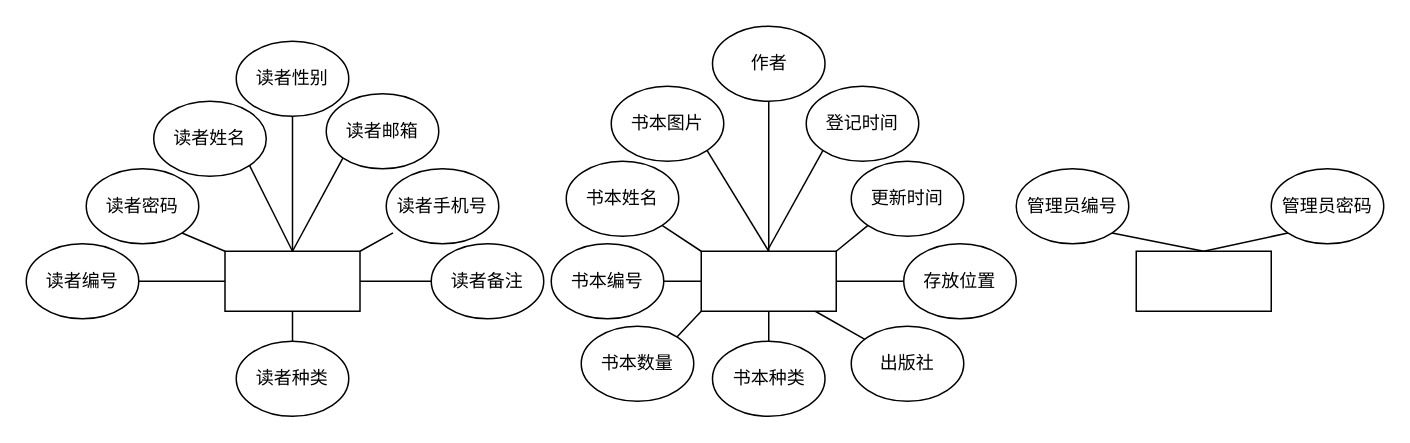
This 1410x443 diagram has some shape labels left out. Each missing label, with the box of its shape:
书本: (700, 250, 836, 311)
管理员: (1135, 250, 1271, 311)
读者信息: (224, 250, 360, 311)
